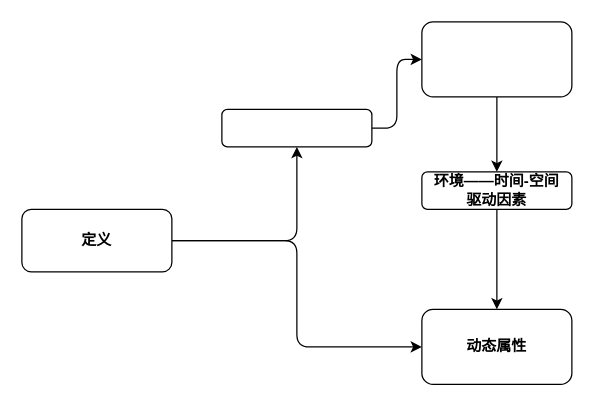
Some shapes in this 594 by 406 pixel diagram are drawn without their labels. The centre of each missing label's shape, as x and y in pixels:
"横向实体 Active" goes at (x=296, y=127).
"静态属性" goes at (x=496, y=59).
